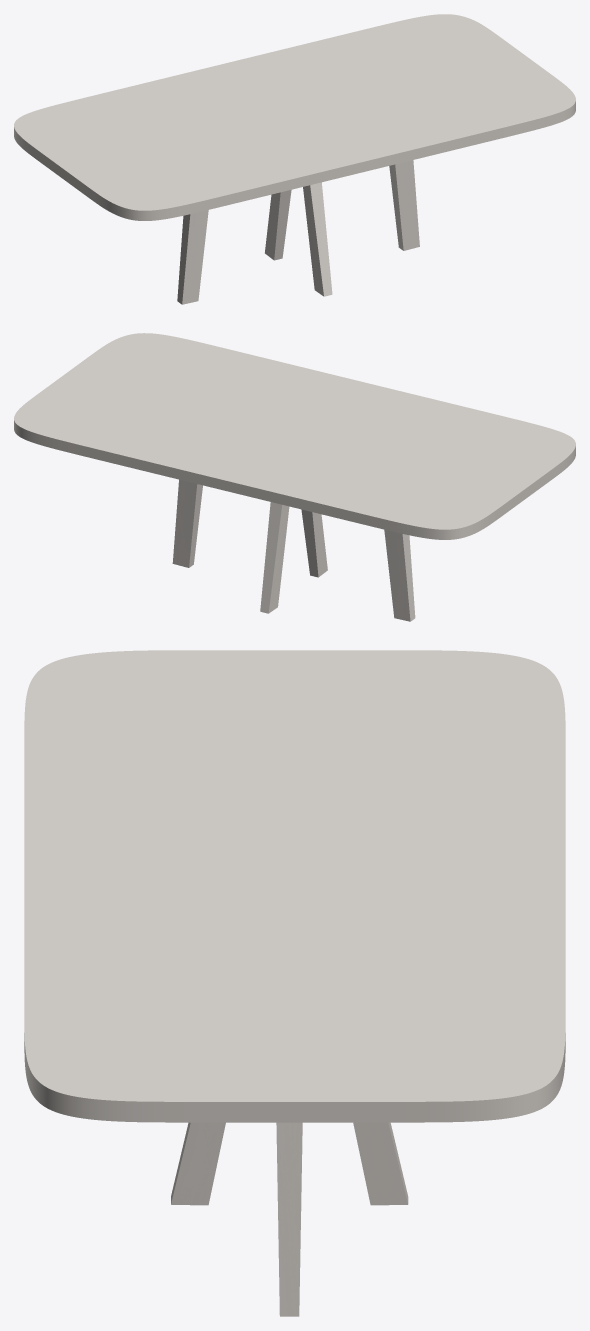
The model's file is pearlwhite_softrecta_standard_searwalnut.glb.
The picture shows the model from 3 angles, top to bottom: view 1: azimuth 30°, elevation 25°; view 2: azimuth 150°, elevation 25°; view 3: azimuth 270°, elevation 25°; orthographic projection. The views are drawn at different scales.
Visible parts, largest first — view 1: standard_softrecta, searwalnut; view 2: standard_softrecta, searwalnut; view 3: standard_softrecta, searwalnut.
Part boxes in pixels (box(x1,y1,x2,y2)): standard_softrecta: box(14, 14, 575, 220); searwalnut: box(177, 160, 419, 304); standard_softrecta: box(14, 333, 575, 539); searwalnut: box(172, 479, 415, 621); standard_softrecta: box(24, 650, 565, 1122); searwalnut: box(171, 1122, 408, 1316).
Size of the model in its own units: 7.5 by 2.5 by 3.8.
1 material, 1 textured.
